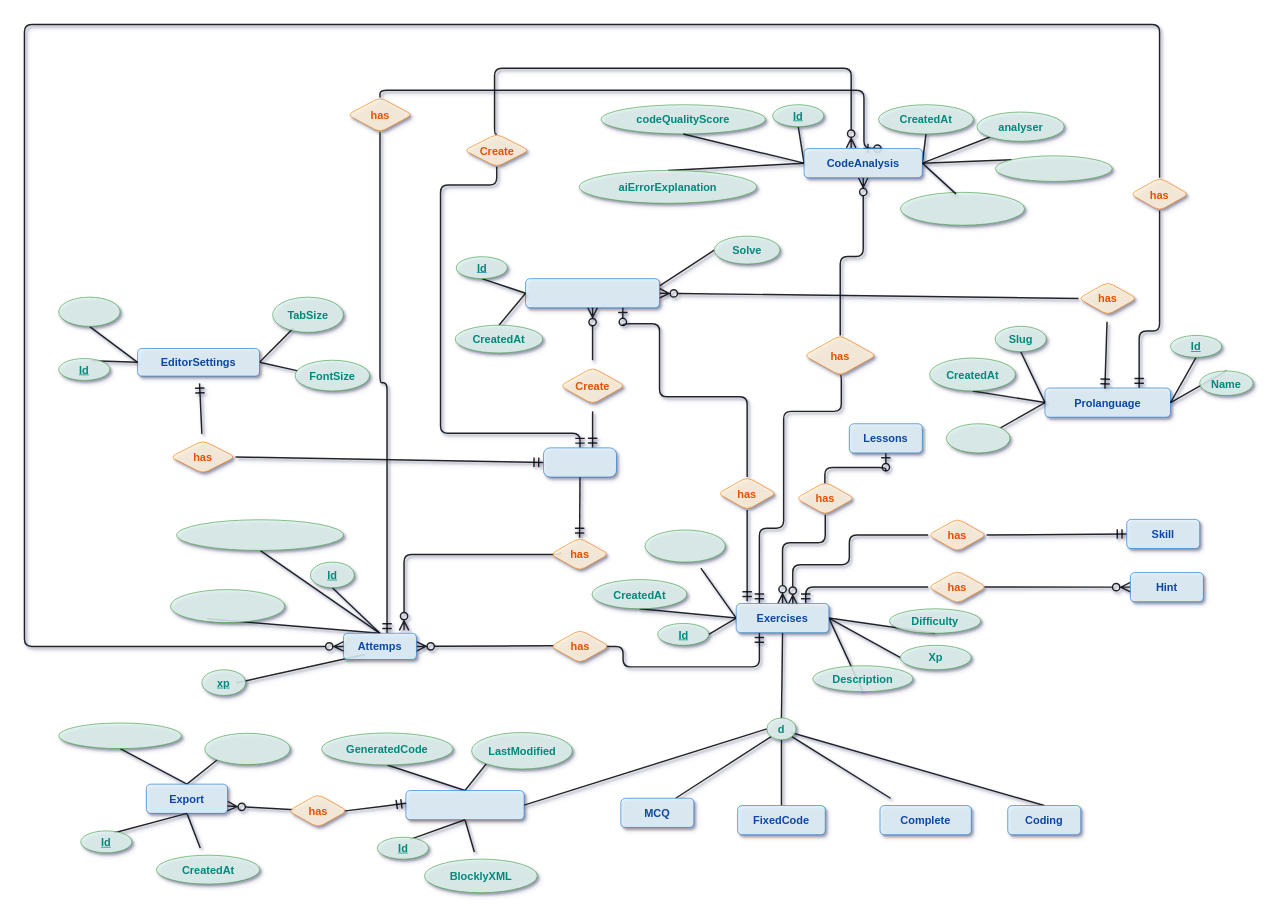
Image size: 1275x915. Some labels were removed from this diagram. The shapes that lost their labels are listed below. From the top down, each one's centre as x and y in pixels, then its label:
point 1054,169: aiFeedback
point 963,209: aiRecommend
point 89,312: Theme
point 593,294: ModelSolution
point 978,439: Family
point 580,463: User
point 260,536: AttemptNumber
point 685,546: Title
point 228,607: IsSuccessful
point 120,736: ExportType
point 248,750: FileURL
point 465,806: BlockyProject
